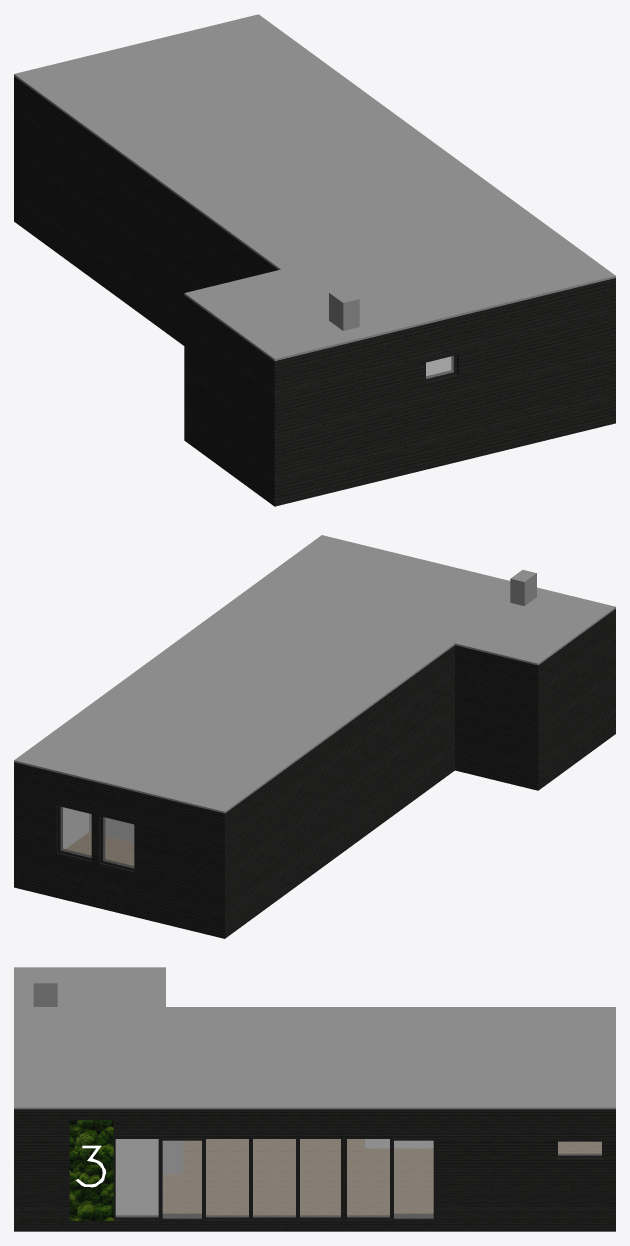
The model's file is Module1+2.glb.
The picture shows the model from 3 angles, top to bottom: view 1: azimuth 30°, elevation 25°; view 2: azimuth 150°, elevation 25°; view 3: azimuth 270°, elevation 25°; orthographic projection. The views are drawn at different scales.
Parts seen in each view (by area): view 1: Этаж по умолчанию, Темное дерево, Стена по умолчанию; view 2: Темное дерево, Этаж по умолчанию, Стекло, Штукатурка, Пол деревянное покрытие, Черный, Стена по умолчанию; view 3: Этаж по умолчанию, Темное дерево, Стекло, Пол деревянное покрытие, Черный, Живая стена, Пол плитка, Стена по умолчанию, Перегородка, Штукатурка.
Boxes of the visible parts, x1,y1,x2,y2 form: Этаж по умолчанию: (14,14,615,360); Темное дерево: (14,76,615,506); Стена по умолчанию: (329,288,359,330); Темное дерево: (14,609,615,938); Этаж по умолчанию: (14,535,615,813); Стекло: (60,807,133,867); Штукатурка: (63,807,134,848); Пол деревянное покрытие: (66,832,134,865); Черный: (58,805,134,870); Стена по умолчанию: (510,570,536,605); Этаж по умолчанию: (14,967,615,1109); Темное дерево: (14,1109,615,1231); Стекло: (116,1139,601,1218); Пол деревянное покрытие: (163,1139,601,1215); Черный: (113,1138,603,1221); Живая стена: (69,1120,113,1220); Пол плитка: (115,1139,162,1215); Стена по умолчанию: (33,976,57,1006); Перегородка: (163,1140,182,1174); Штукатурка: (365,1139,433,1148).
Size of the model in its own units: 8.32 by 4.08 by 15.05.
Materials: 13 (8 with a texture image).
